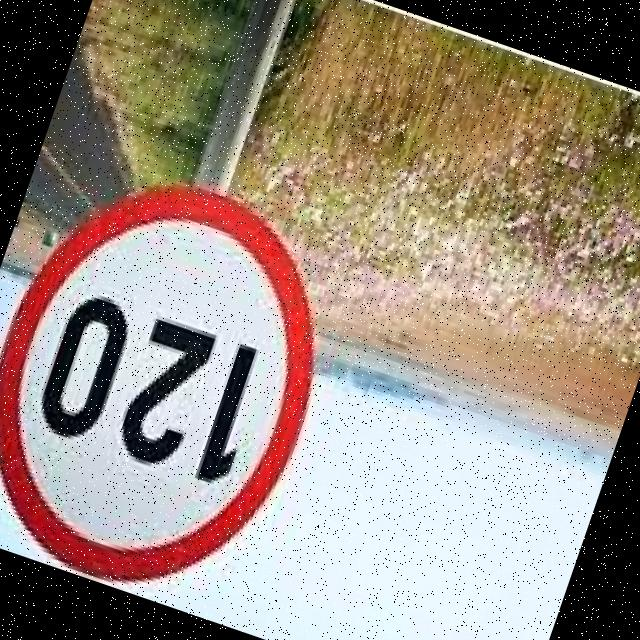speed_limit_120: (0, 142, 374, 631)
